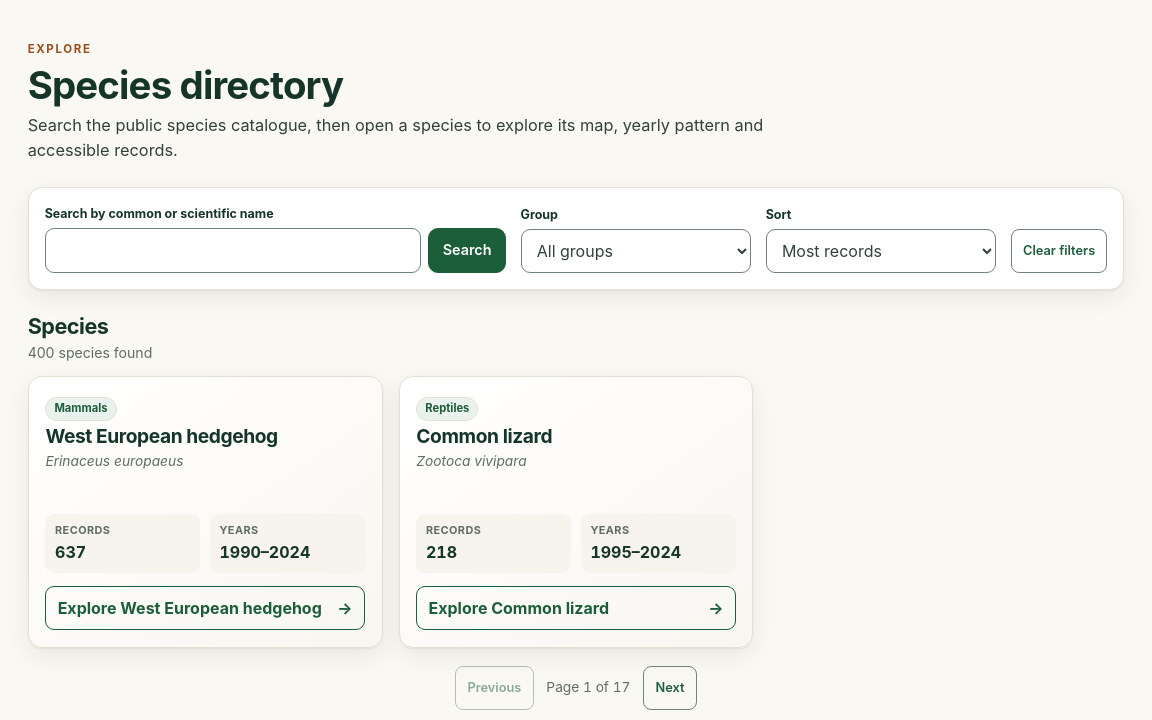
Test: SpeciesList — server-driven public directory › paginates without losing filters and resets the page when a filter changes
Expected: the link "Explore West European hedgehog →" is shown, [45,586,365,630]
Click the button "Next" at (670, 688), box [643,666,697,710]
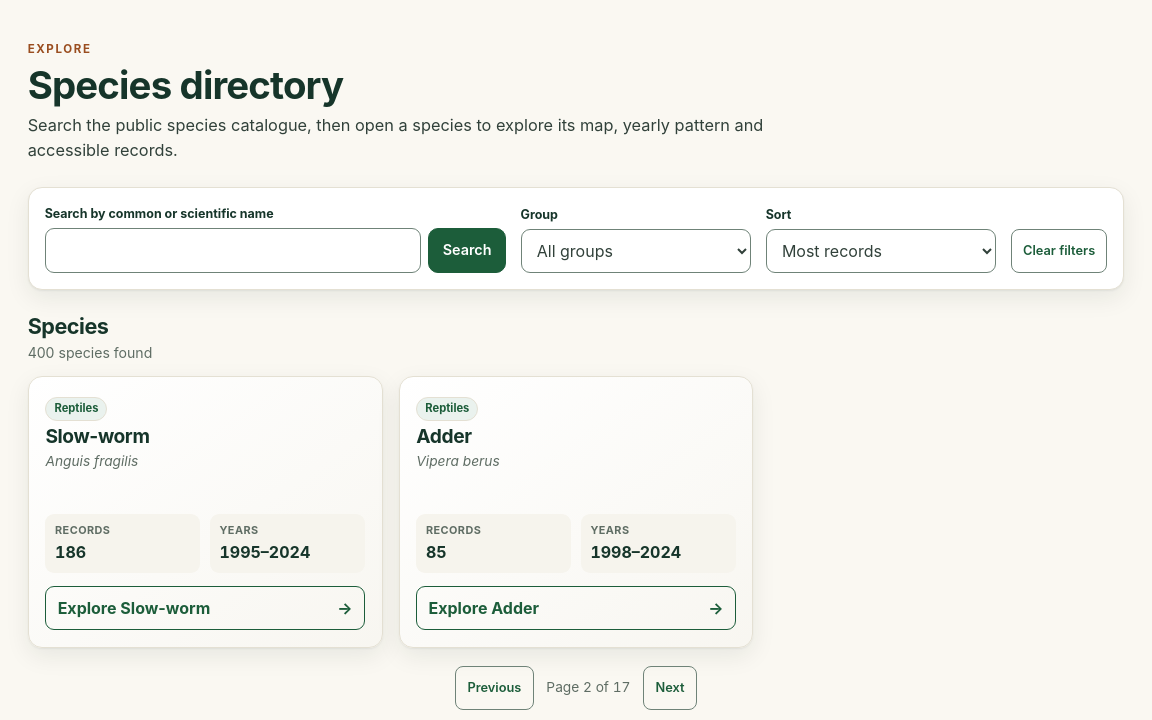
Result: the link "Explore Slow-worm →" is shown at [45,586,365,630]
Select "Reptiles (3)" in the dropdown labelled "Group" at (636, 251), box [520,229,751,273]
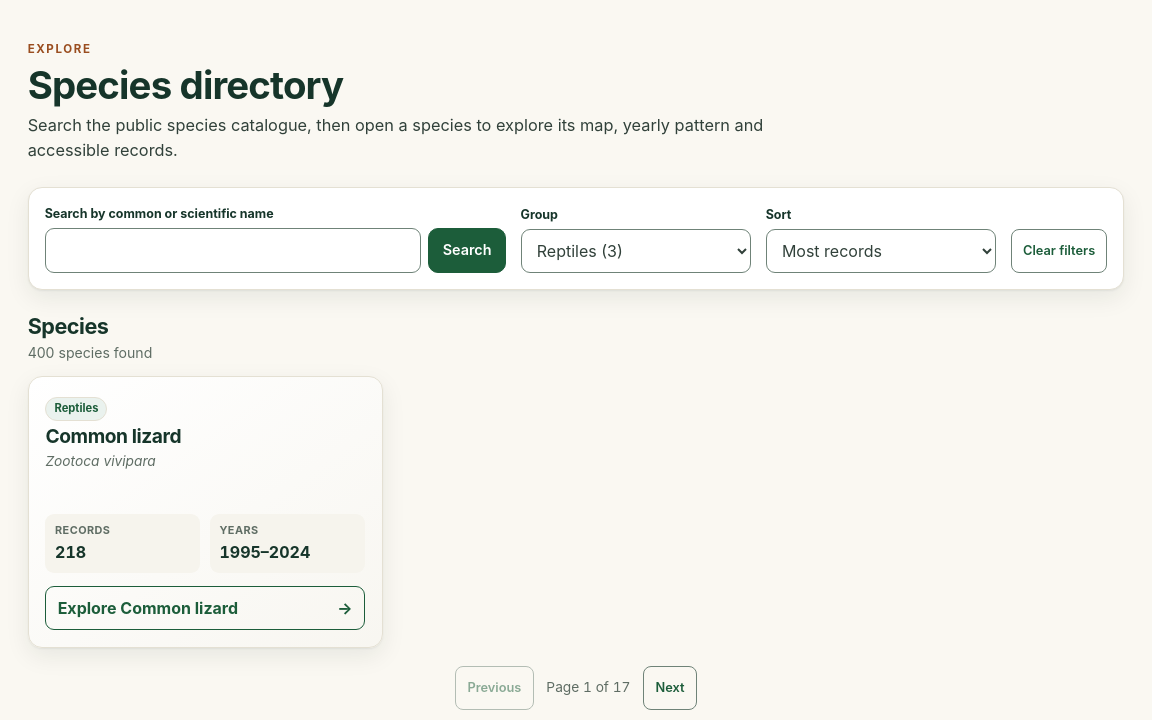
Result: the button "Previous" is disabled at [455,666,534,710]
